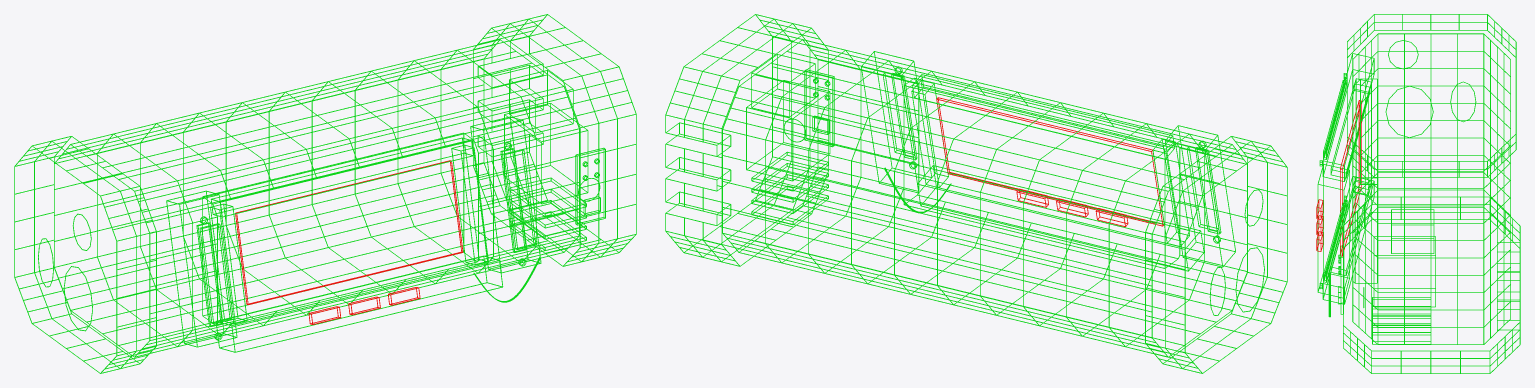
Rendered from long-range-transmitter-highlight-audio-visual-console.glb.
The picture shows the model from 3 angles, left to right: view 1: azimuth 30°, elevation 25°; view 2: azimuth 150°, elevation 25°; view 3: azimuth 270°, elevation 25°; orthographic projection. The views are drawn at different scales.
Parts seen in each view (by area): view 1: chassis technical wire, data-cartridge-drives technical wire, data-encryption-device technical wire, audio-visual-console technical wire; view 2: chassis technical wire, data-encryption-device technical wire, data-cartridge-drives technical wire, audio-visual-console technical wire; view 3: chassis technical wire, data-cartridge-drives technical wire, data-encryption-device technical wire, audio-visual-console technical wire.
Part boxes in pixels (box(x1,y1,x2,y2)): chassis technical wire: box(14, 14, 636, 373); data-cartridge-drives technical wire: box(166, 116, 541, 347); data-encryption-device technical wire: box(504, 70, 605, 250); audio-visual-console technical wire: box(235, 160, 463, 324); chassis technical wire: box(665, 14, 1287, 373); data-encryption-device technical wire: box(746, 54, 834, 224); data-cartridge-drives technical wire: box(861, 51, 1235, 267); audio-visual-console technical wire: box(936, 97, 1163, 226); chassis technical wire: box(1317, 14, 1520, 373); data-cartridge-drives technical wire: box(1319, 53, 1374, 304); data-encryption-device technical wire: box(1338, 209, 1435, 344); audio-visual-console technical wire: box(1316, 100, 1361, 256).
Size of the model in its own units: 3.14 by 1.08 by 1.29.
